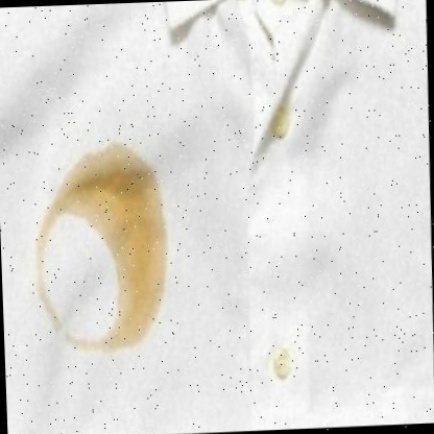coffee: (101, 227, 172, 338), (69, 154, 162, 228)
